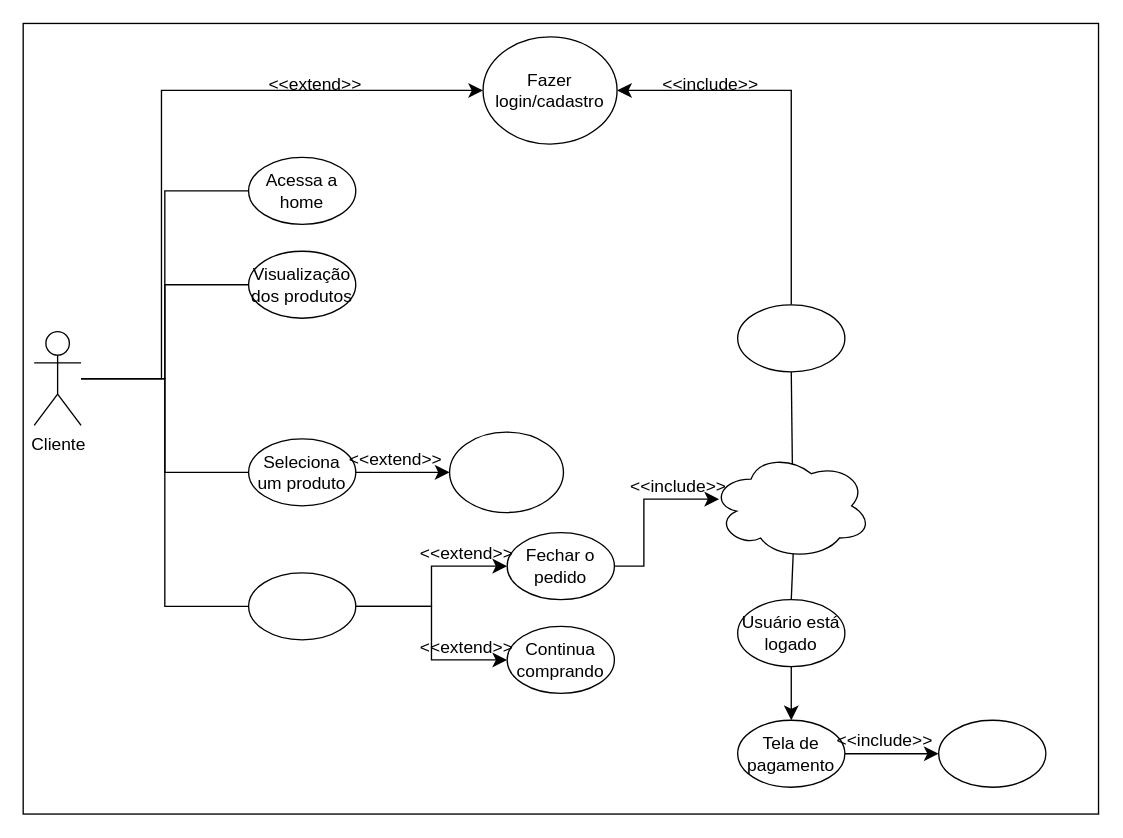
The diagram is 1123 pixels wide and 838 high, and some of its shapes have lost their labels. The shapes that lost their labels are listed below. From the top down, each one's box as (x1, y1, x2, y2) in pixels, then its label:
(736, 304, 845, 372): Usuário não está logado
(448, 431, 563, 513): Adicionar o produto ao carrinho
(710, 451, 872, 559): Autenticação de usuário
(247, 572, 356, 640): Ir para o carrinho
(937, 719, 1046, 787): Conclusão da comprar
